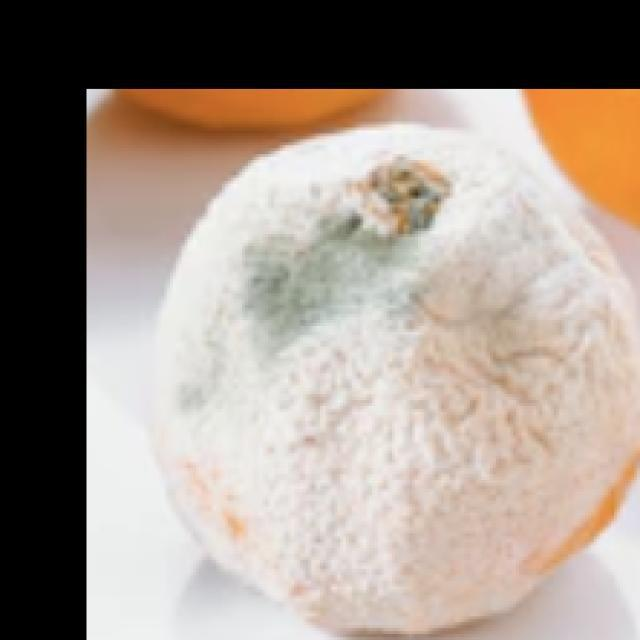sangat-busuk: (153, 122, 639, 634)
